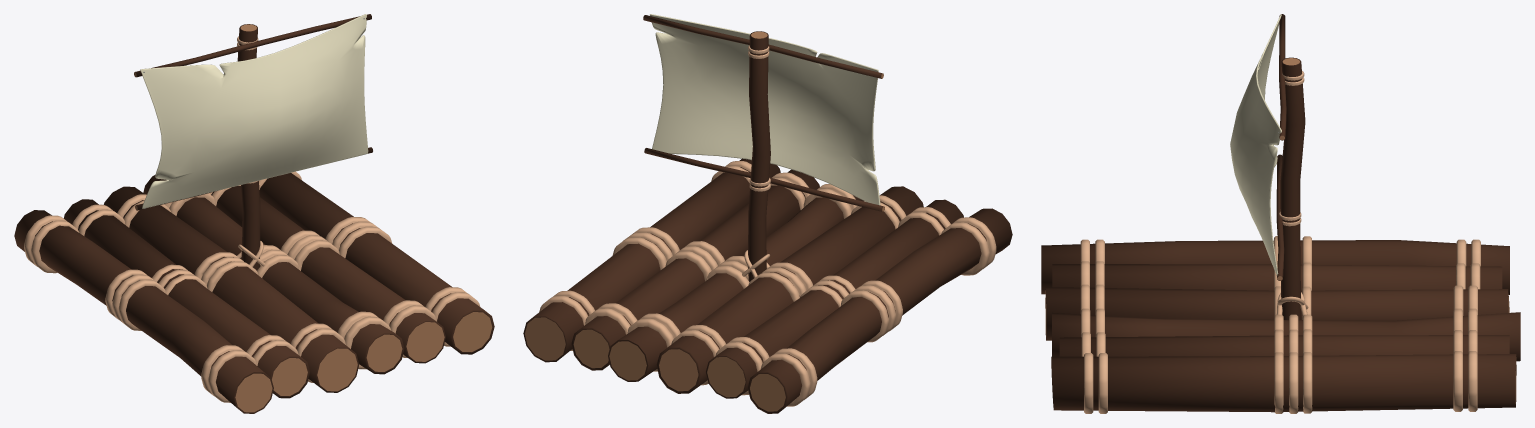
Rendered from Raft.fbx.
3 views of the same model, side by side, from view 1: azimuth 30°, elevation 25°; view 2: azimuth 150°, elevation 25°; view 3: azimuth 270°, elevation 25° (orthographic). The views are drawn at different scales.
Parts seen in each view (by area): view 1: Base, Sail, Mast 1, Mast 2; view 2: Base, Sail, Mast 1, Mast 2; view 3: Base, Sail, Mast 1, Mast 2.
Part boxes in pixels (left/top/right/bottom): Base: left=14, top=171, right=494, bottom=413; Sail: left=140, top=14, right=368, bottom=208; Mast 1: left=237, top=24, right=265, bottom=270; Mast 2: left=134, top=14, right=372, bottom=210; Base: left=523, top=158, right=1012, bottom=413; Sail: left=650, top=14, right=880, bottom=205; Mast 1: left=742, top=31, right=770, bottom=281; Mast 2: left=643, top=15, right=884, bottom=211; Base: left=1041, top=236, right=1520, bottom=413; Sail: left=1230, top=14, right=1281, bottom=275; Mast 1: left=1276, top=57, right=1308, bottom=319; Mast 2: left=1276, top=14, right=1286, bottom=280.
Size of the model in its own units: 797 by 776 by 1141.
